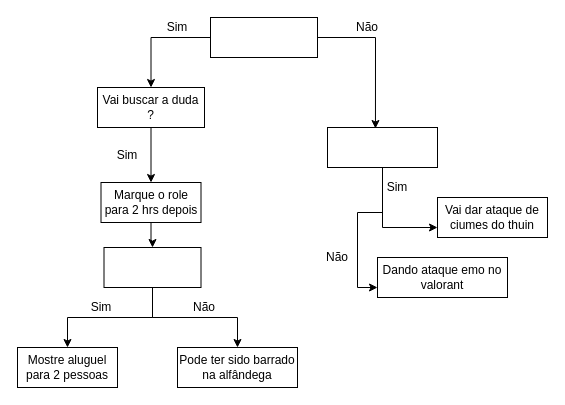
Image size: 565x405. Some labels were removed from this diagram. The centre of each missing label's shape, as x and y in pixels:
chegou no rolê ?: the point at 152,267
O Felipe Ken vai sair?: the point at 264,37
Tá online no wpp ?: the point at 382,147
